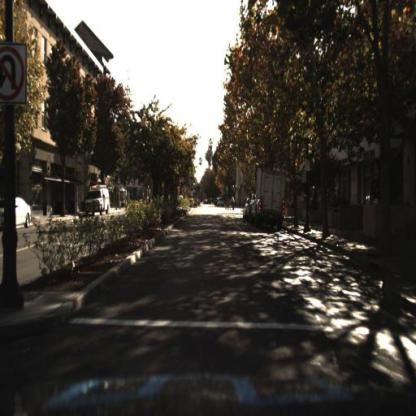car: (253, 164, 288, 228), (1, 196, 32, 232), (83, 183, 113, 220)
pedestrian: (223, 197, 237, 215), (227, 198, 239, 215)
trafficLight-Green: (231, 179, 237, 194)
truck: (250, 167, 287, 232)
